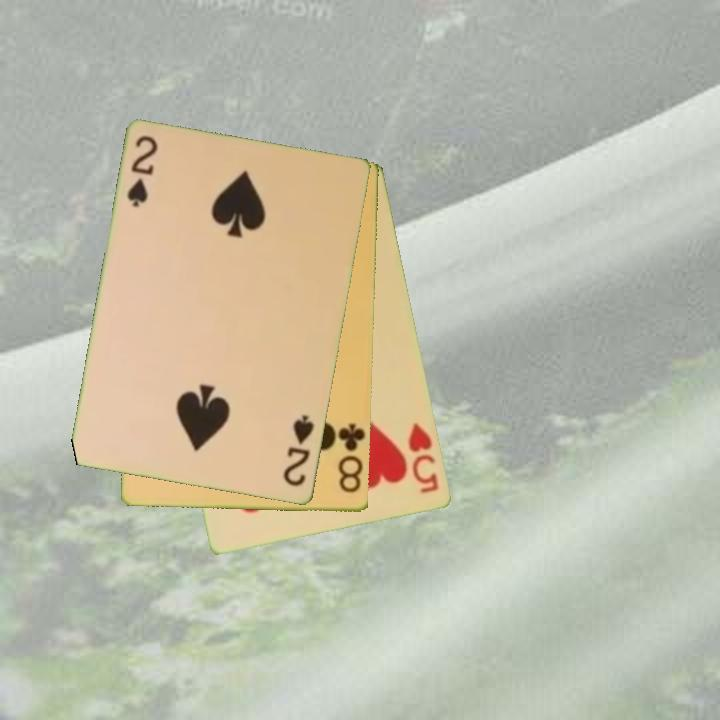2s: (124, 132, 161, 211), (280, 412, 317, 490)
5h: (405, 420, 442, 497)
8c: (332, 420, 367, 496)
